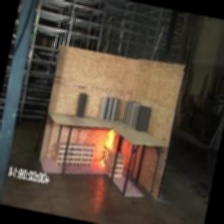fire: (94, 124, 119, 160)
